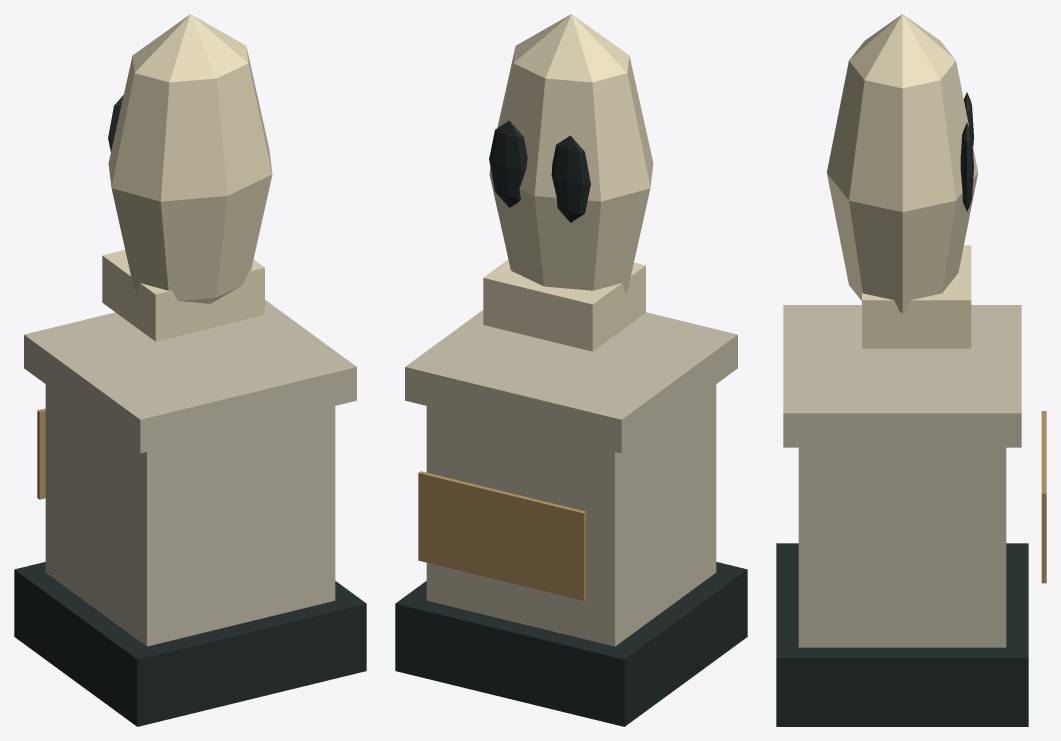
The model's file is LP_NaturalHistory_CornerFeature.fbx.
3 renders of one model, left to right at view 1: azimuth 30°, elevation 25°; view 2: azimuth 150°, elevation 25°; view 3: azimuth 270°, elevation 25°, orthographic. The views are drawn at different scales.
Visible parts, largest first — view 1: M_Central_Limestone, WarmIvory, Charcoal, AgedBrass; view 2: M_Central_Limestone, WarmIvory, Charcoal, AgedBrass; view 3: M_Central_Limestone, WarmIvory, Charcoal, AgedBrass.
Boxes of the visible parts, x1,y1,x2,y2 form: M_Central_Limestone: (24, 300, 356, 646); WarmIvory: (102, 14, 272, 341); Charcoal: (14, 95, 366, 726); AgedBrass: (37, 408, 45, 499); M_Central_Limestone: (405, 310, 737, 646); WarmIvory: (483, 14, 653, 351); Charcoal: (395, 120, 747, 726); AgedBrass: (418, 471, 586, 600); M_Central_Limestone: (783, 305, 1021, 647); WarmIvory: (826, 14, 978, 348); Charcoal: (776, 92, 1028, 726); AgedBrass: (1041, 411, 1046, 583).
Bounding box in the file's own units: 75 × 200 × 74.77.
